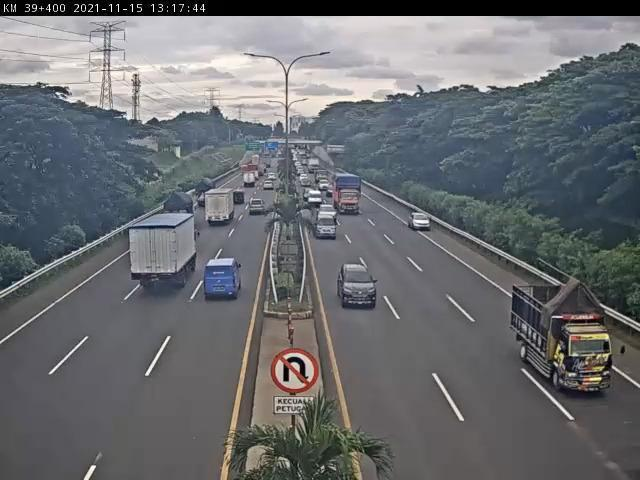car: (338, 262, 378, 310), (206, 256, 245, 303), (314, 214, 338, 240), (409, 213, 431, 234), (248, 197, 267, 217), (317, 204, 338, 222)
truck: (510, 275, 617, 401), (126, 213, 197, 294), (333, 174, 369, 218), (206, 188, 237, 227), (165, 192, 195, 227)
